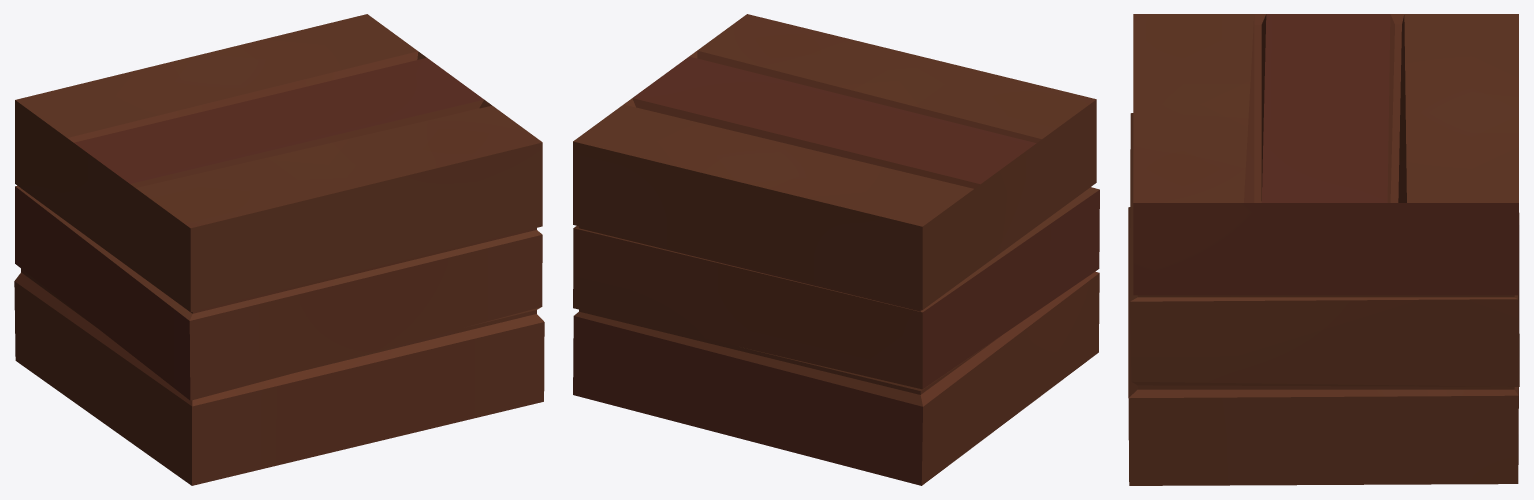
3 views of the same model, side by side, from view 1: azimuth 30°, elevation 25°; view 2: azimuth 150°, elevation 25°; view 3: azimuth 270°, elevation 25° (orthographic). The views are drawn at different scales.
Visible parts, largest first — view 1: Box_2; view 2: Box_2; view 3: Box_2.
Boxes of the visible parts, <box> form: Box_2: <box>14,14,544,485</box>; Box_2: <box>573,14,1099,485</box>; Box_2: <box>1128,14,1519,485</box>.
Size of the model in its own units: 0.9026 by 0.6353 by 0.7853.
